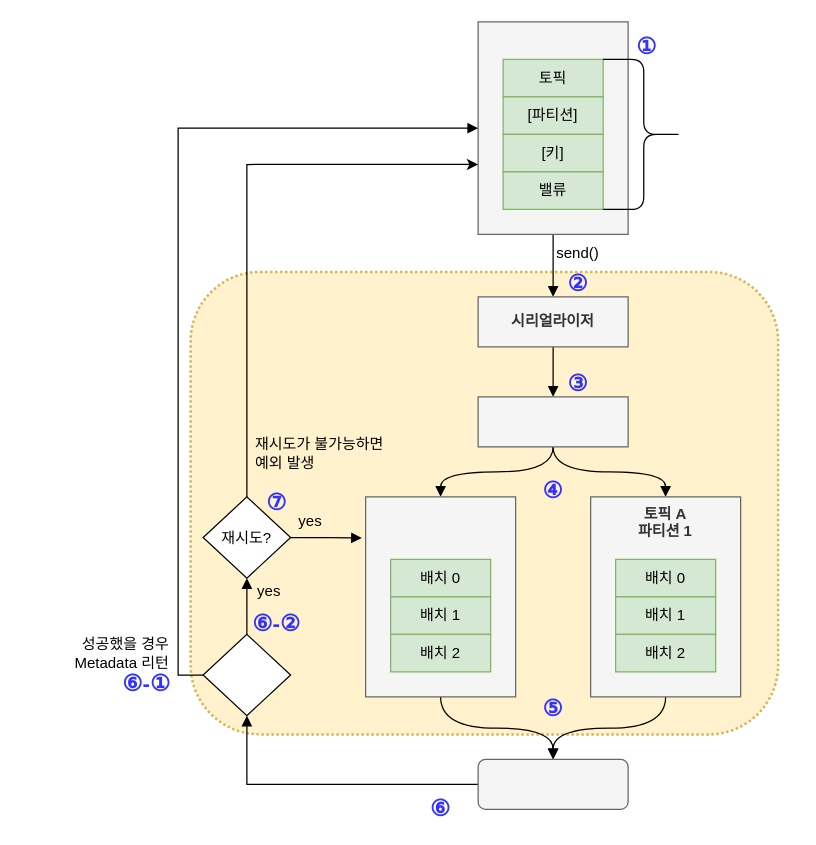
The diagram is 816 pixels wide and 845 high, and some of its shapes have lost their labels. The box of each missing label's shape, as (x1, y1, x2, y2) in pixels:
ProducerRecord: (602, 58, 684, 209)
실패?: (202, 633, 291, 716)
카프카 브로커: (477, 758, 628, 809)
토픽 A 파티션 0: (364, 496, 516, 697)
파티셔너: (477, 396, 628, 447)
프로듀서: (477, 21, 628, 234)
